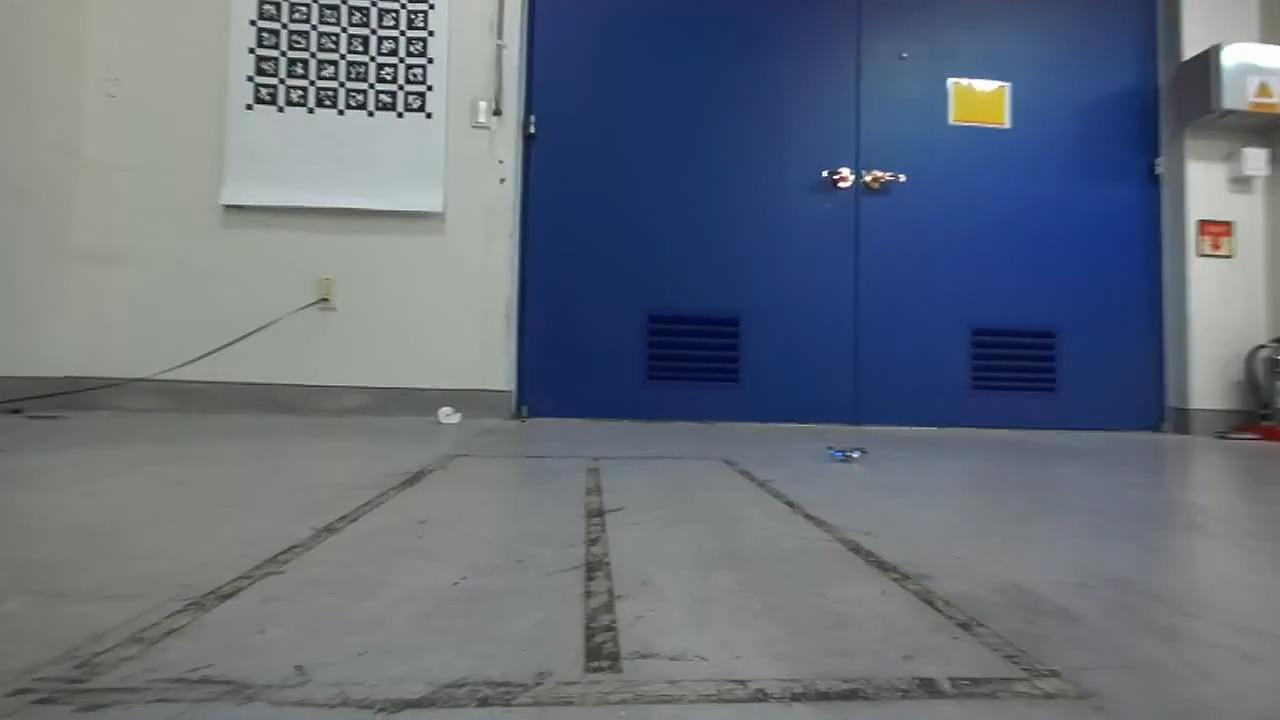crazyflie: (819, 439, 873, 465)
